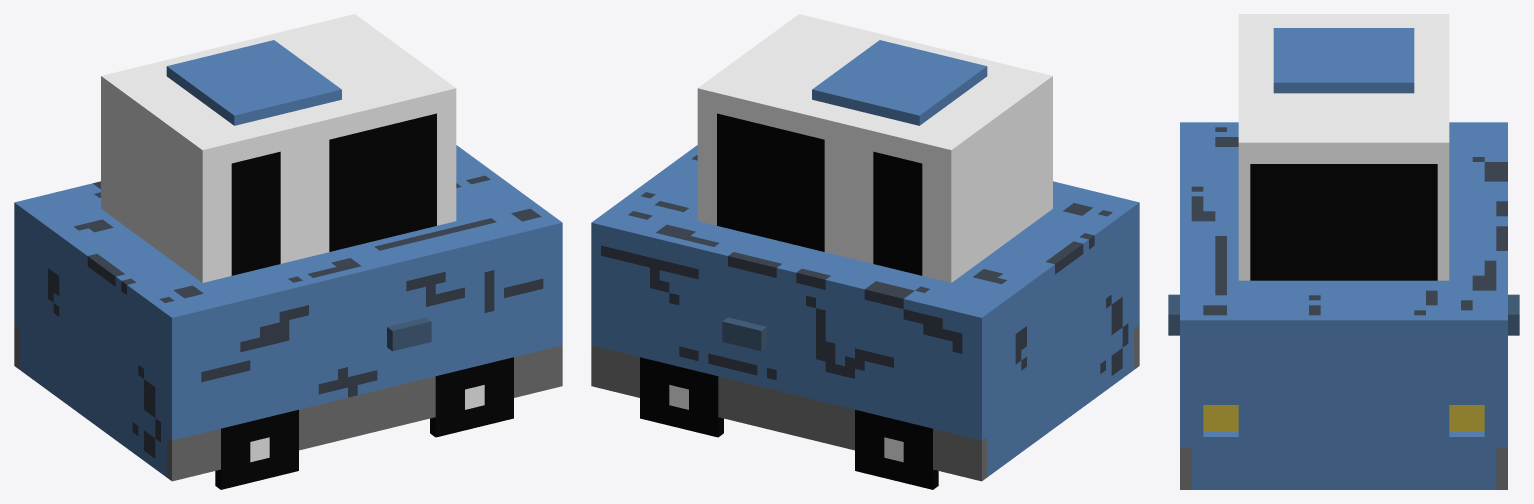
Rendered from coche_azul.obj.
The picture shows the model from 3 angles, left to right: view 1: azimuth 30°, elevation 25°; view 2: azimuth 150°, elevation 25°; view 3: azimuth 270°, elevation 25°; orthographic projection. The views are drawn at different scales.
Bounding box in the file's own units: 40 × 32 × 30.
Materials: 1 (1 with a texture image).
